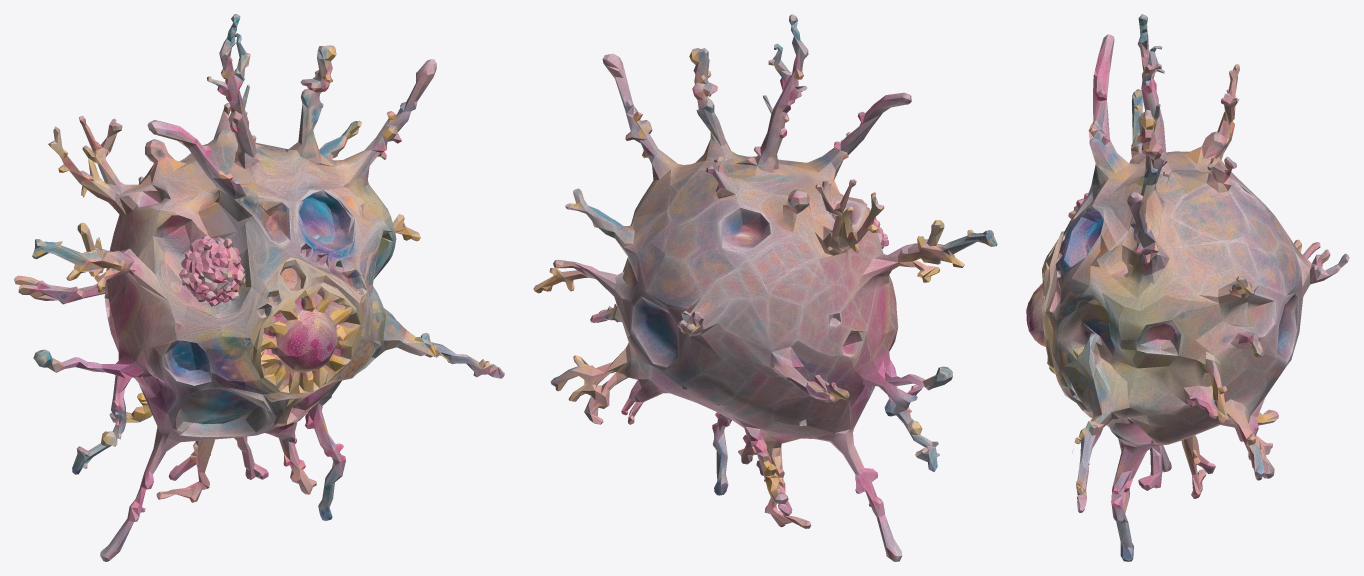
The model's file is spore-mobile.glb.
The picture shows the model from 3 angles, left to right: view 1: azimuth 30°, elevation 25°; view 2: azimuth 150°, elevation 25°; view 3: azimuth 270°, elevation 25°; orthographic projection. The views are drawn at different scales.
Bounding box in the file's own units: 1.68 × 1.9 × 1.09.
Materials: 1 (1 with a texture image).
